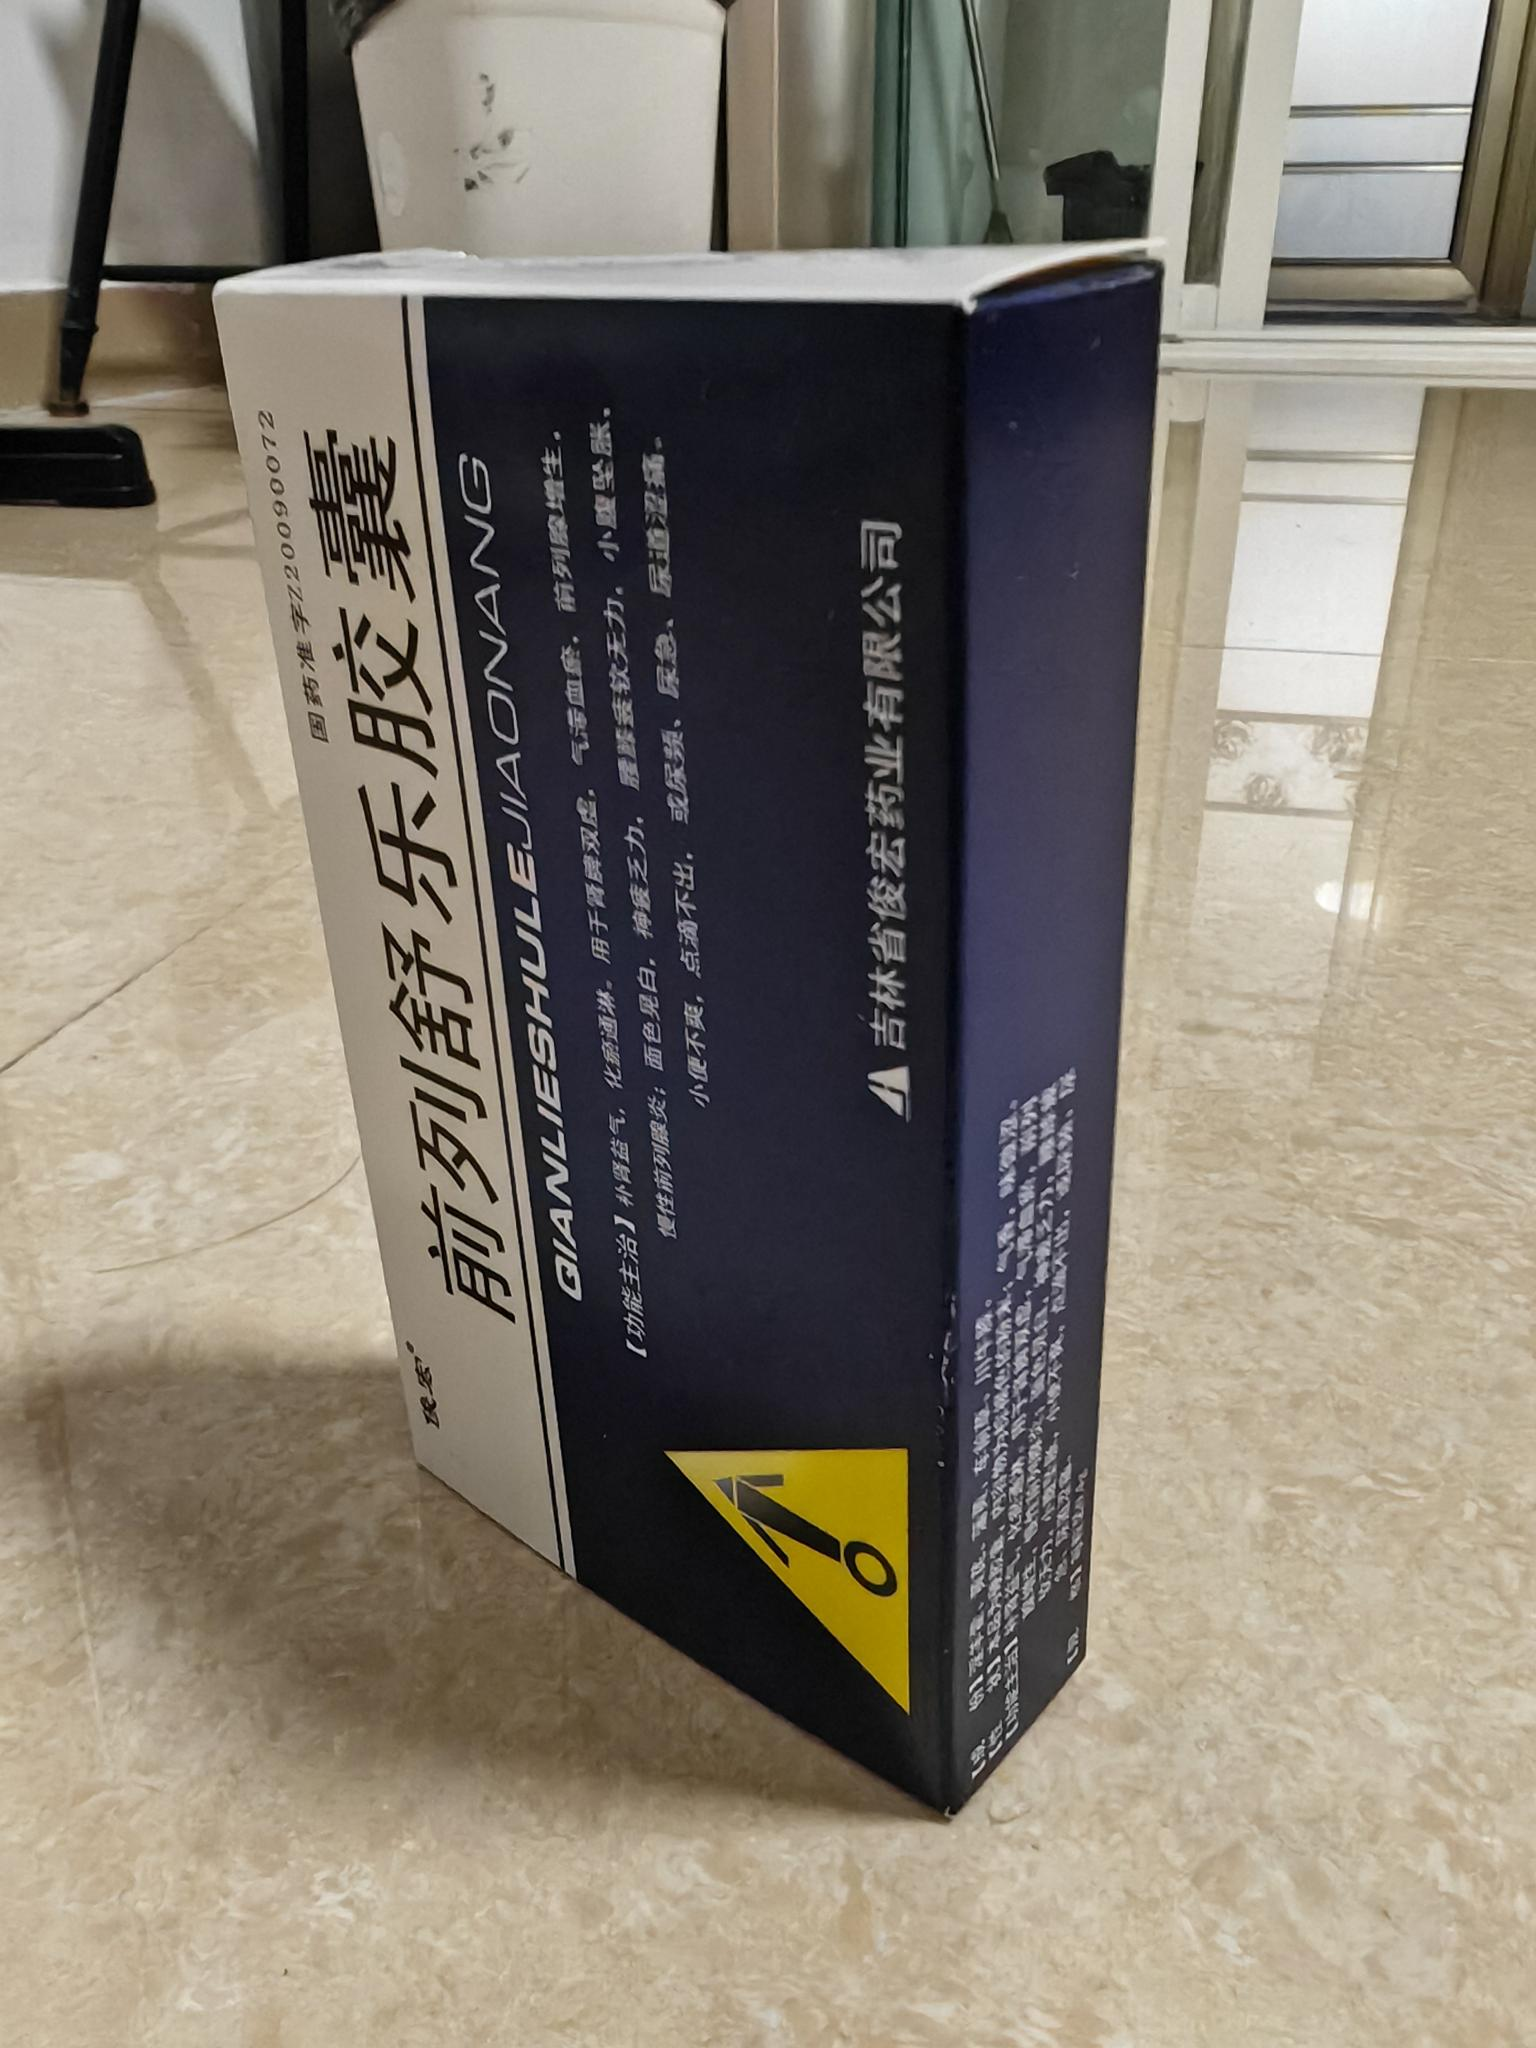Medicine2: (187, 221, 1176, 1848)
